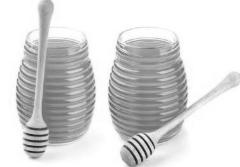glass: (108, 30, 190, 146), (17, 29, 95, 148)
